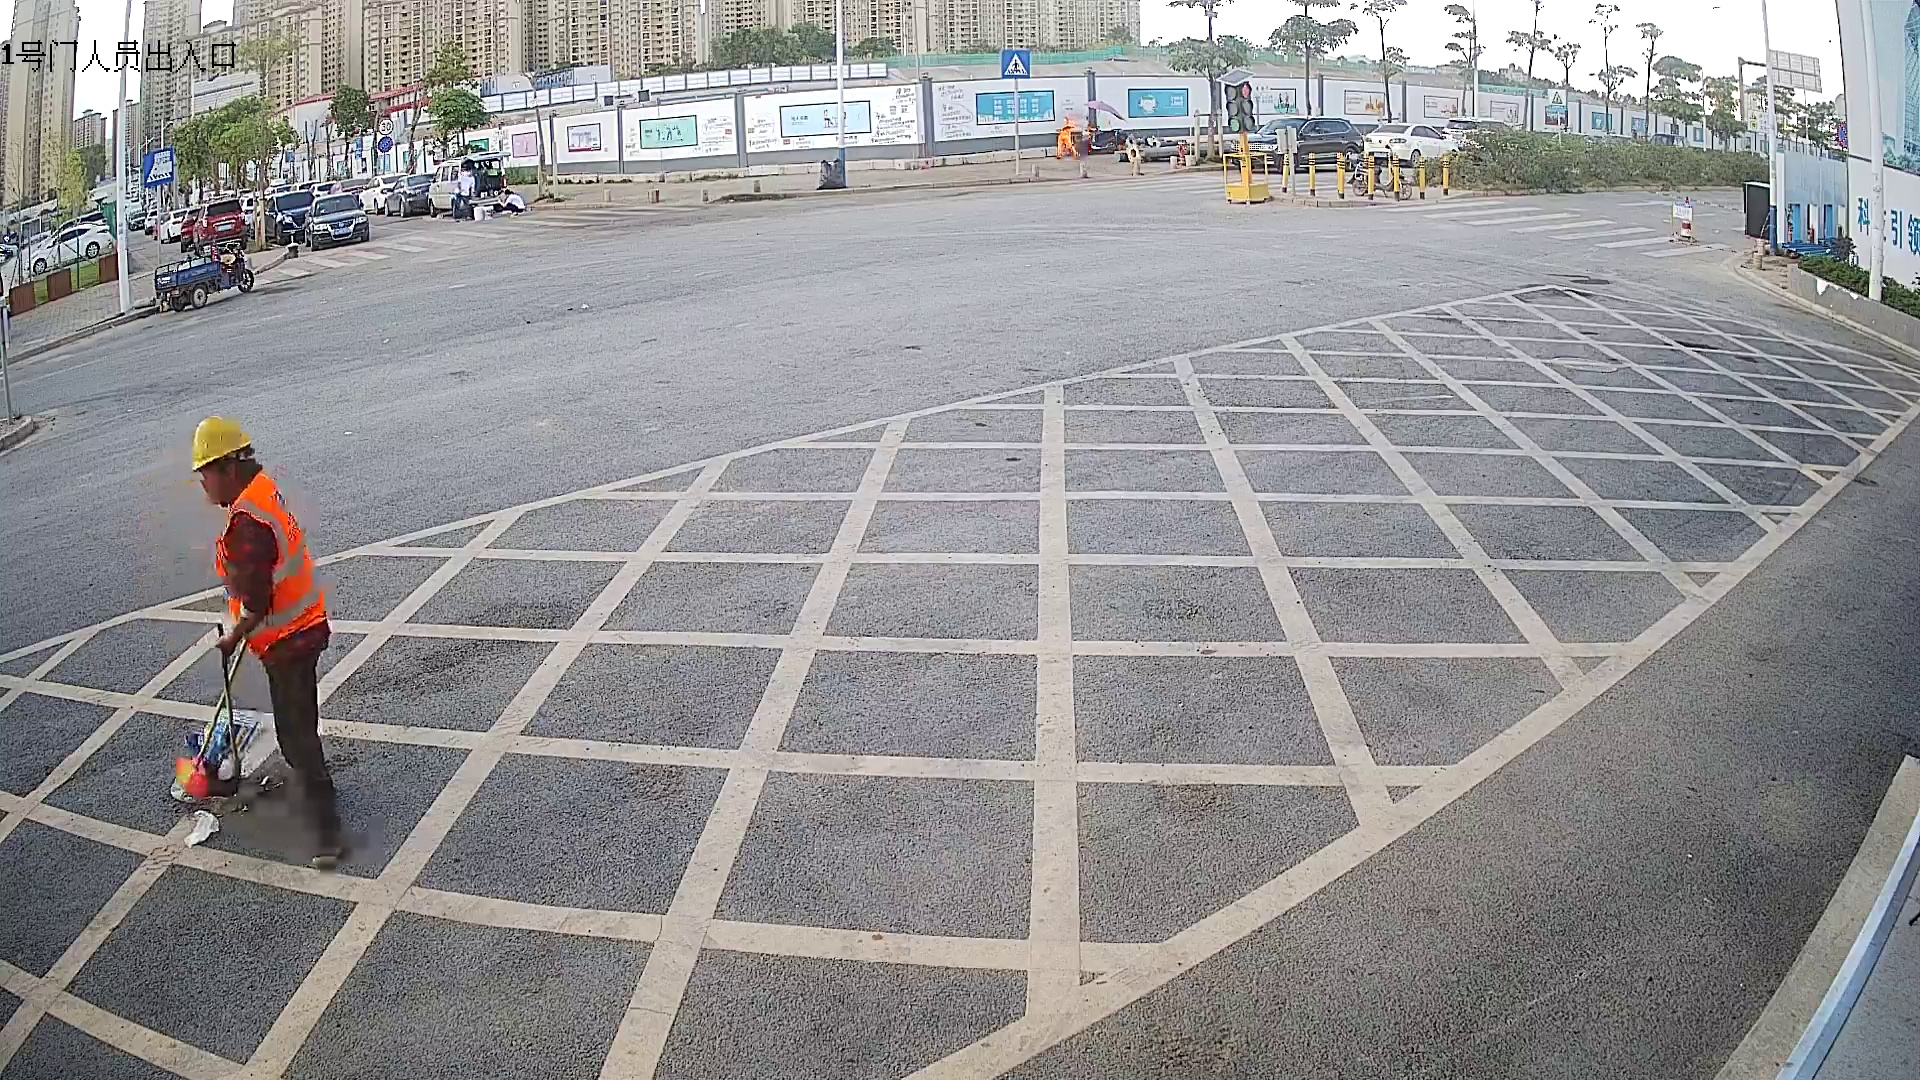person: (188, 410, 351, 878)
reflective_vest: (212, 465, 327, 656)
safety_helmet: (190, 412, 260, 507)
